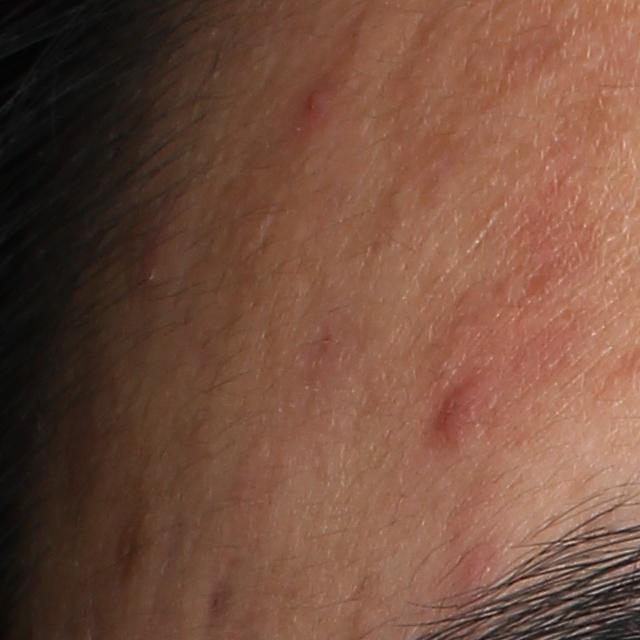papule: (427, 383, 480, 450)
